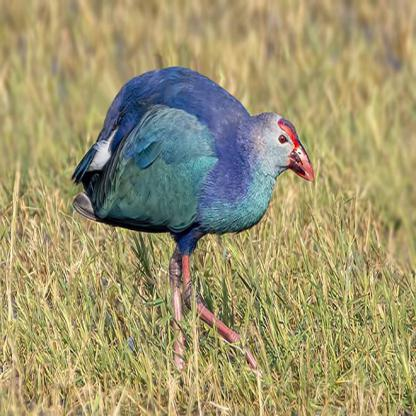Burung: (72, 65, 314, 367)
